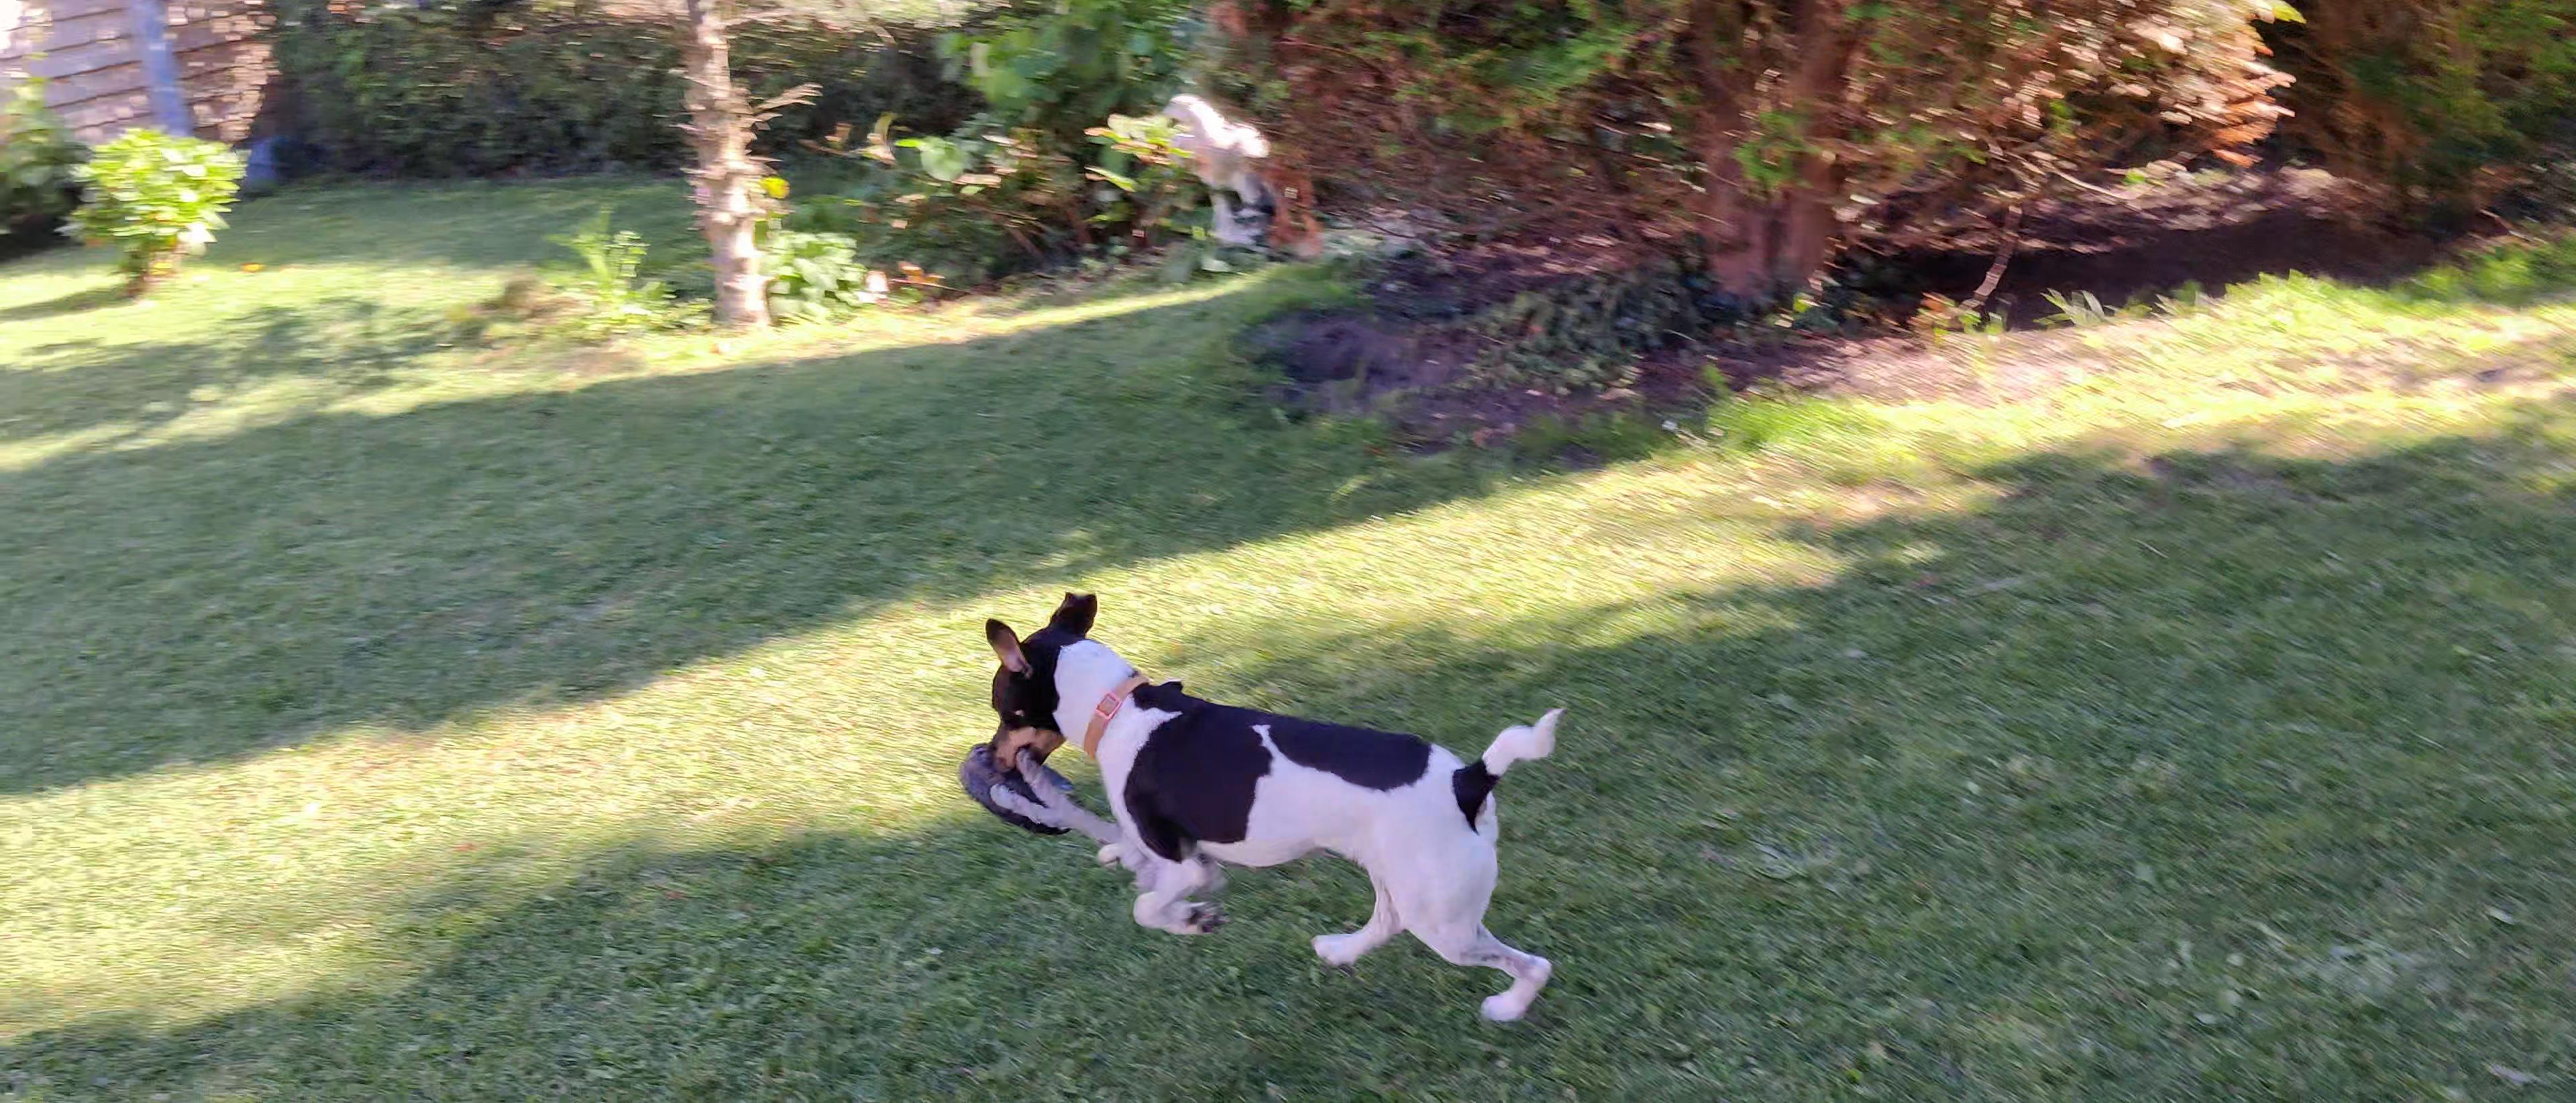Dog: (982, 588, 1571, 1031)
